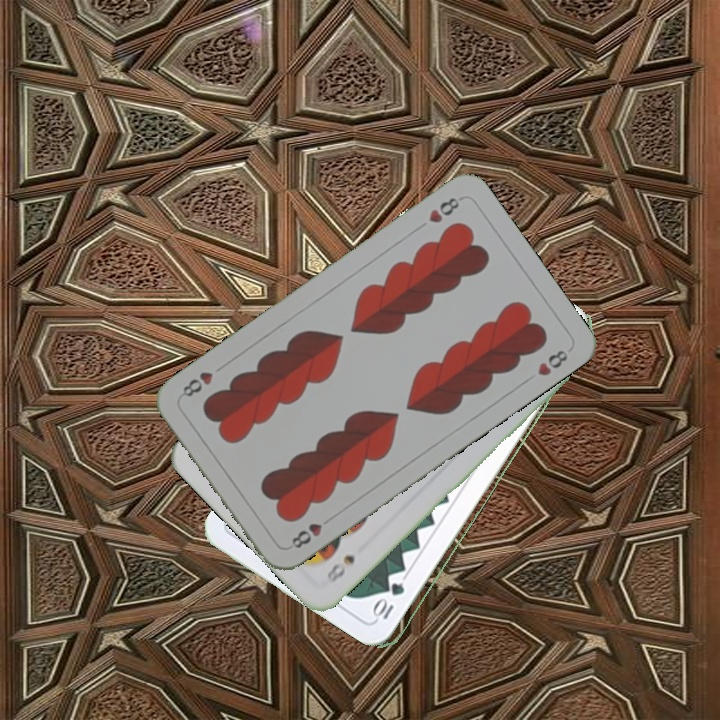G10: (372, 578, 408, 622)
H8: (424, 192, 466, 226), (287, 519, 325, 551)
S8: (323, 550, 358, 586)
